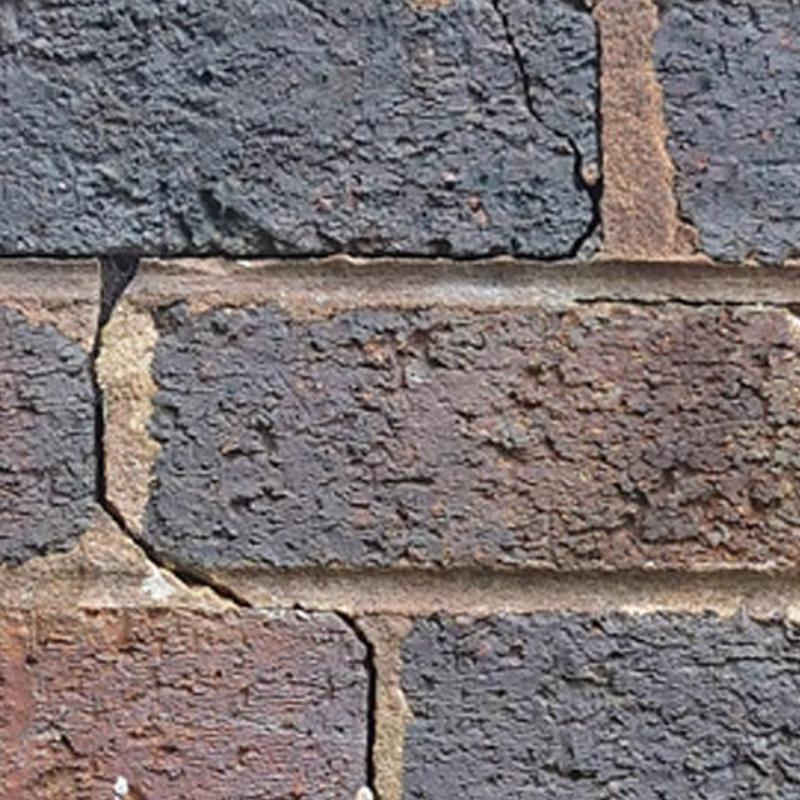crack: (89, 0, 604, 609), (336, 611, 382, 800), (571, 295, 800, 317)
